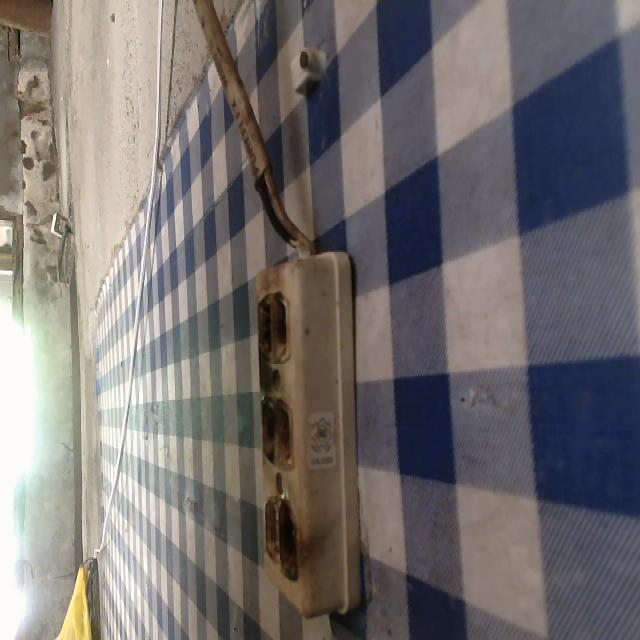-: (261, 492, 301, 580), (257, 392, 297, 475), (257, 286, 291, 366)
